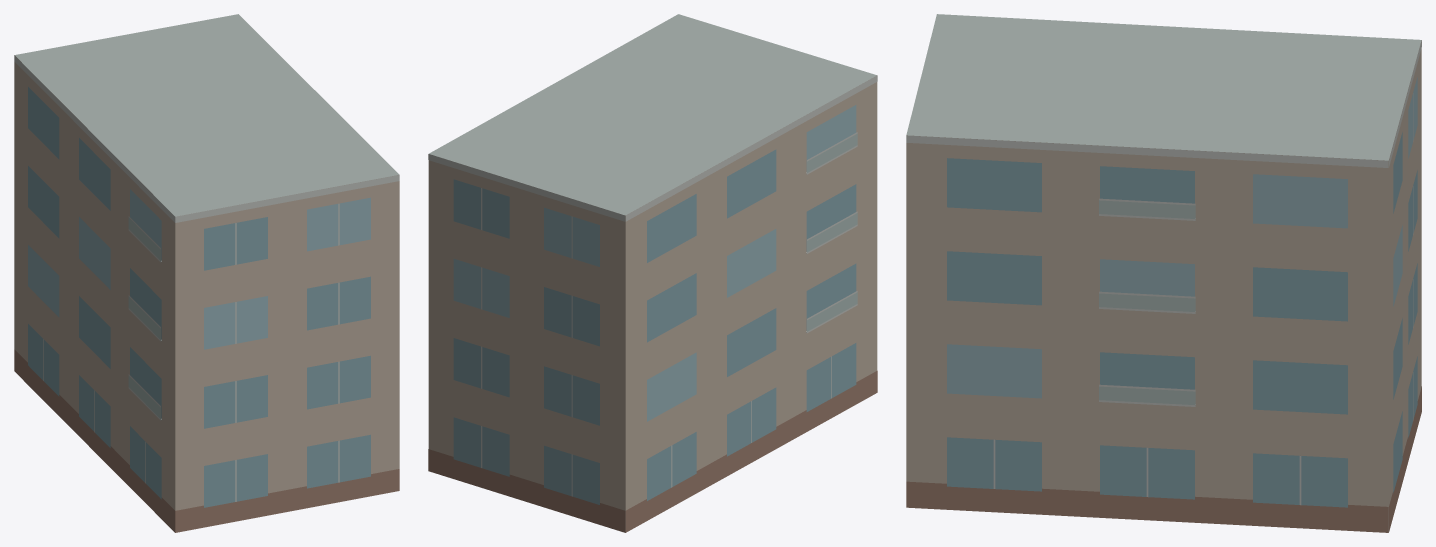
File: survey-upis-32651622.glb
The picture shows the model from 3 angles, left to right: view 1: azimuth 30°, elevation 25°; view 2: azimuth 150°, elevation 25°; view 3: azimuth 270°, elevation 25°; orthographic projection. The views are drawn at different scales.
Visible parts, largest first — view 1: survey-upis-32651622.tmp; view 2: survey-upis-32651622.tmp; view 3: survey-upis-32651622.tmp.
Part boxes in pixels (bbox=[...]): survey-upis-32651622.tmp: bbox=[14, 14, 399, 532]; survey-upis-32651622.tmp: bbox=[428, 14, 877, 532]; survey-upis-32651622.tmp: bbox=[906, 14, 1421, 532].
Bounding box in the file's own units: 10.32 × 12.2 × 15.32.
